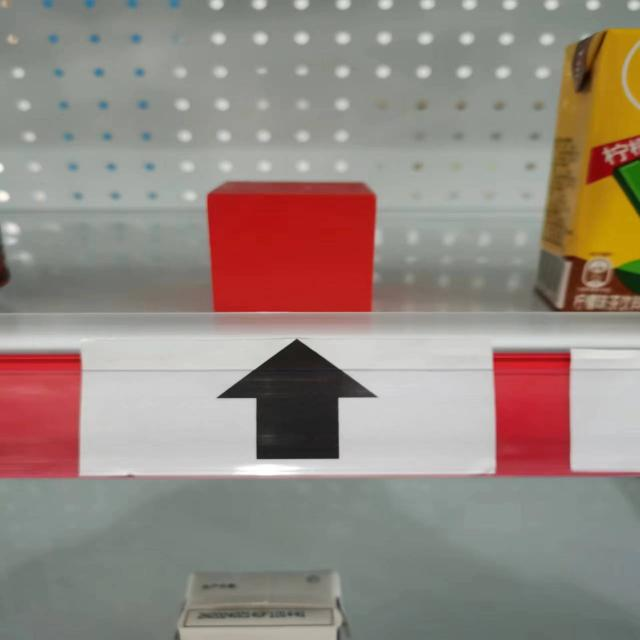red_block: (202, 174, 381, 316)
